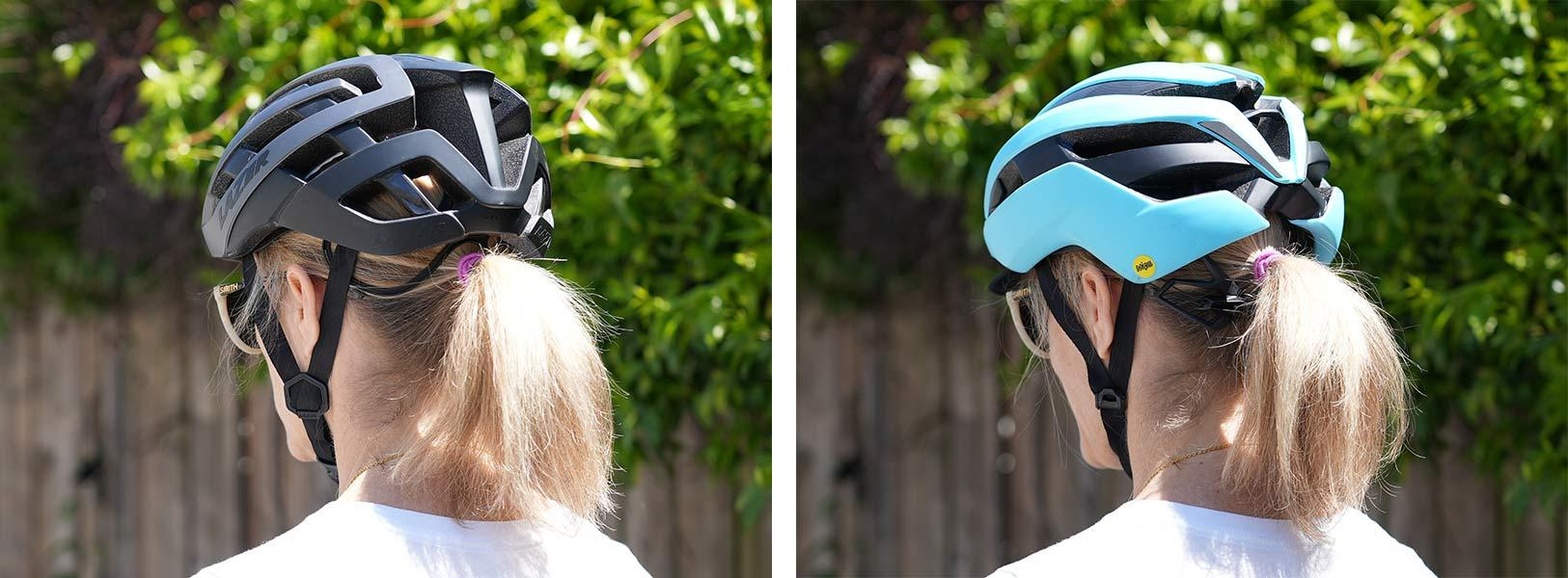helmet: (161, 18, 640, 512), (936, 40, 1380, 513)
